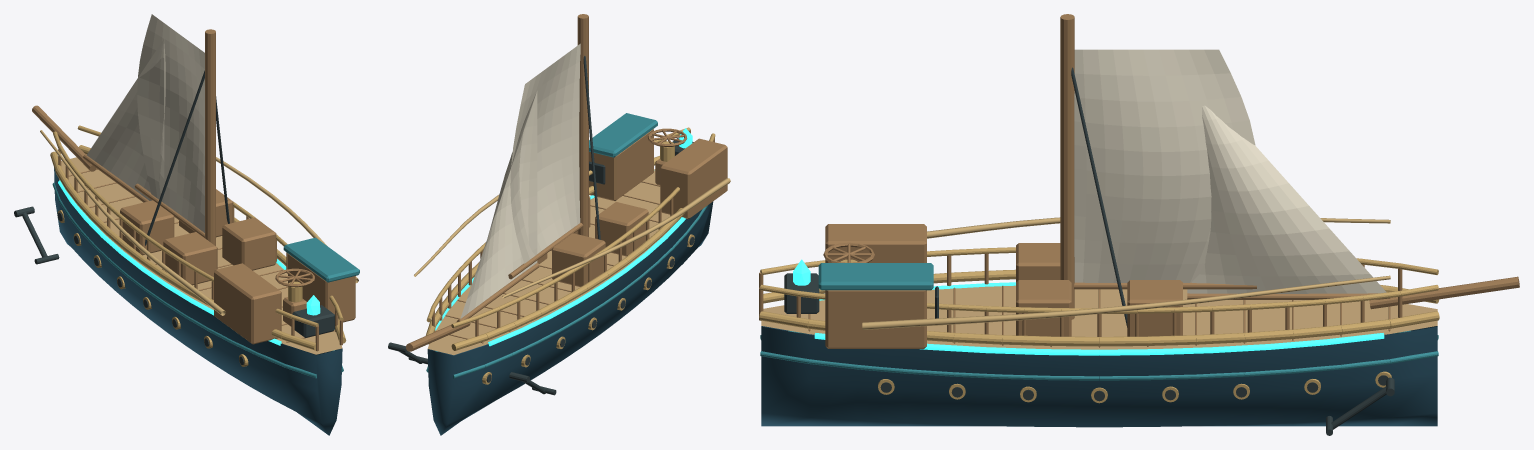
Rendered from premium_sea_swallow.glb.
3 renders of one model, left to right at view 1: azimuth 30°, elevation 25°; view 2: azimuth 150°, elevation 25°; view 3: azimuth 270°, elevation 25°, orthographic. The views are drawn at different scales.
Parts seen in each view (by area): view 1: premium_sea_swallow; view 2: premium_sea_swallow; view 3: premium_sea_swallow.
Part boxes in pixels (bbox=[...]): premium_sea_swallow: bbox=[14, 14, 359, 435]; premium_sea_swallow: bbox=[388, 14, 730, 435]; premium_sea_swallow: bbox=[759, 14, 1519, 435].
Bounding box in the file's own units: 2.87 × 5.68 × 9.56.
